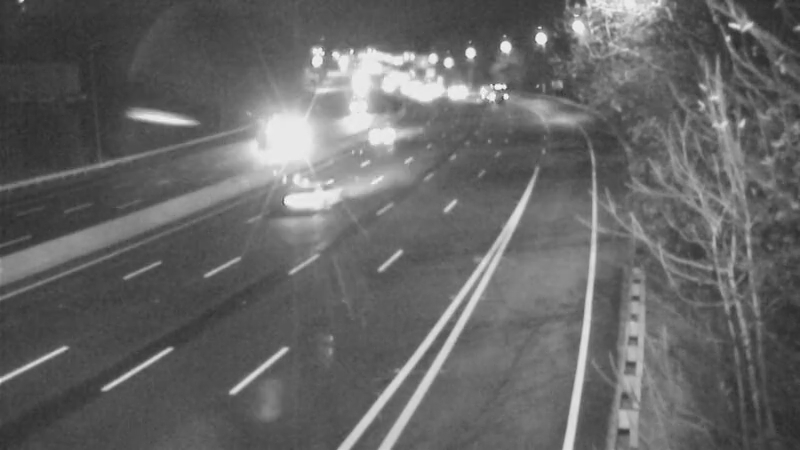vehicle: (277, 150, 357, 230), (463, 69, 513, 119), (436, 71, 486, 121), (360, 107, 410, 157), (238, 105, 288, 155), (270, 123, 320, 173), (332, 87, 382, 137)
